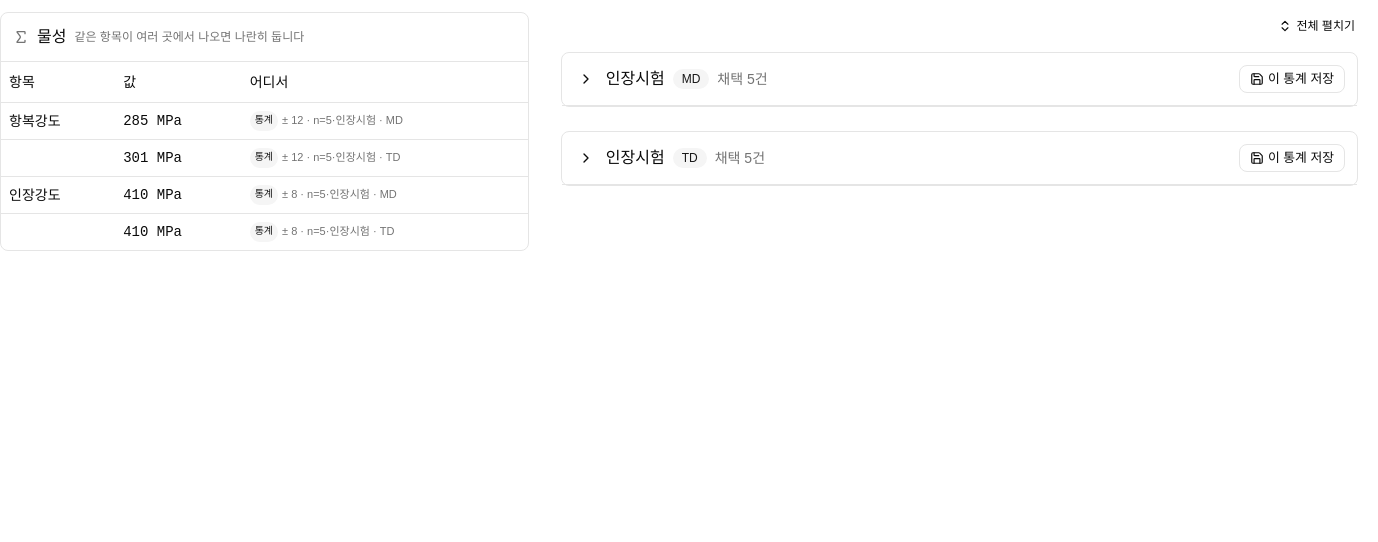
Scenario: 전체 여닫기 › 한 번에 전부 펴진다
The width and height of the screenshot is (1378, 542).
여닫기 단추는 묶음이 둘 이상일 때만 선다 — 조회가 끝나야 생긴다.
What coordinates should you click on to do the following:
click the button "전체 펼치기"
I would click on:
 (1317, 26)
Its box is 1267,12 -> 1366,40.
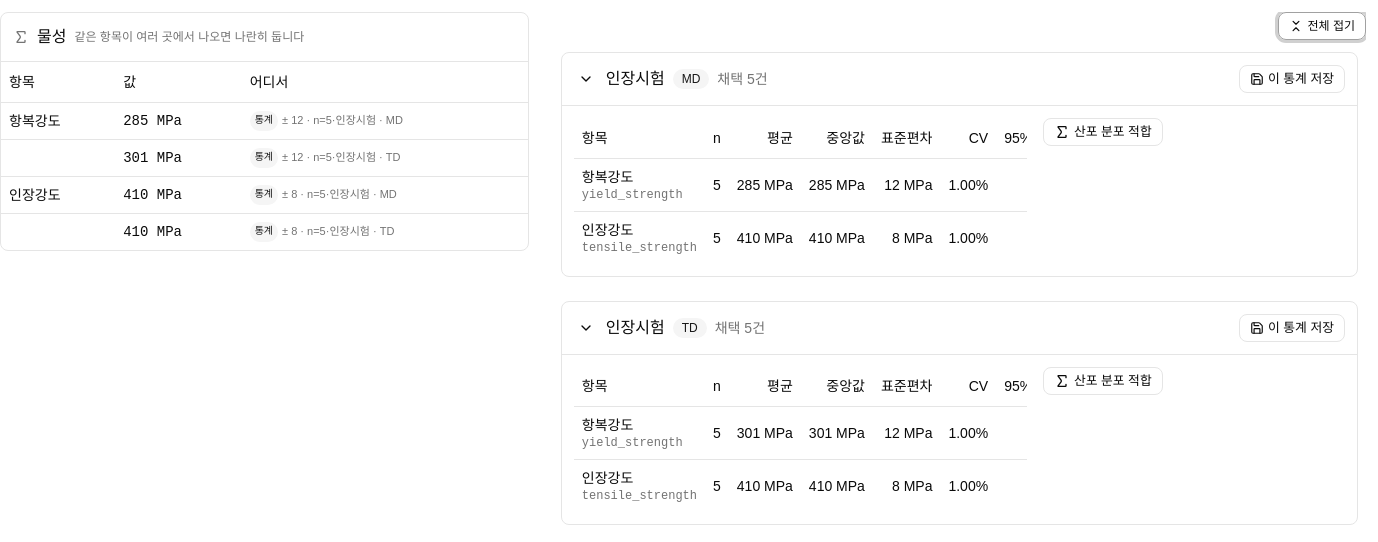
Check: the button named "인장시험 MD 접기" is shown, box 574,67 -> 598,91
Check: the button named "인장시험 TD 접기" is shown, box 574,316 -> 598,340
